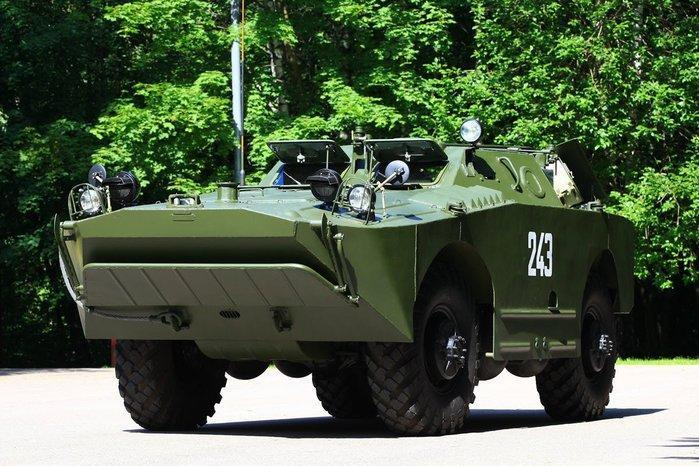MIL_IFV: (49, 119, 638, 441)
